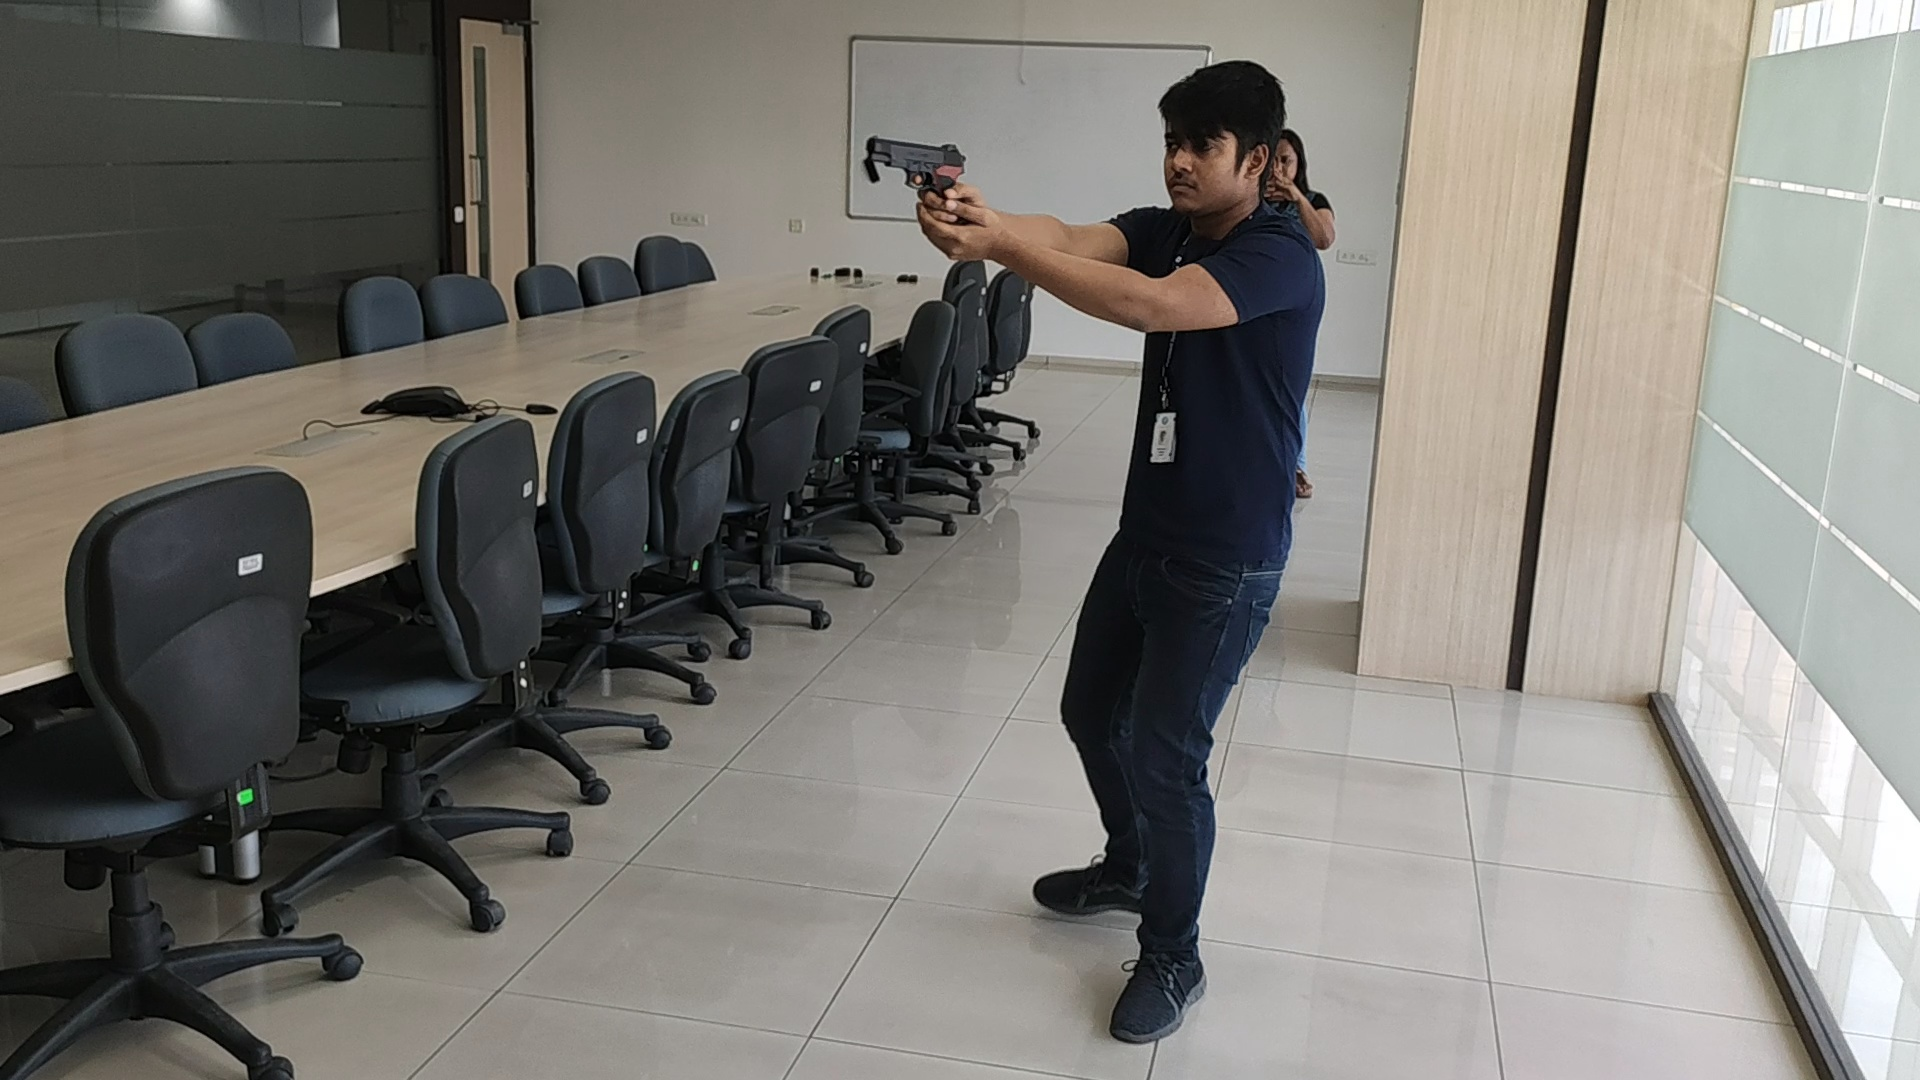gun: (862, 135, 968, 194)
